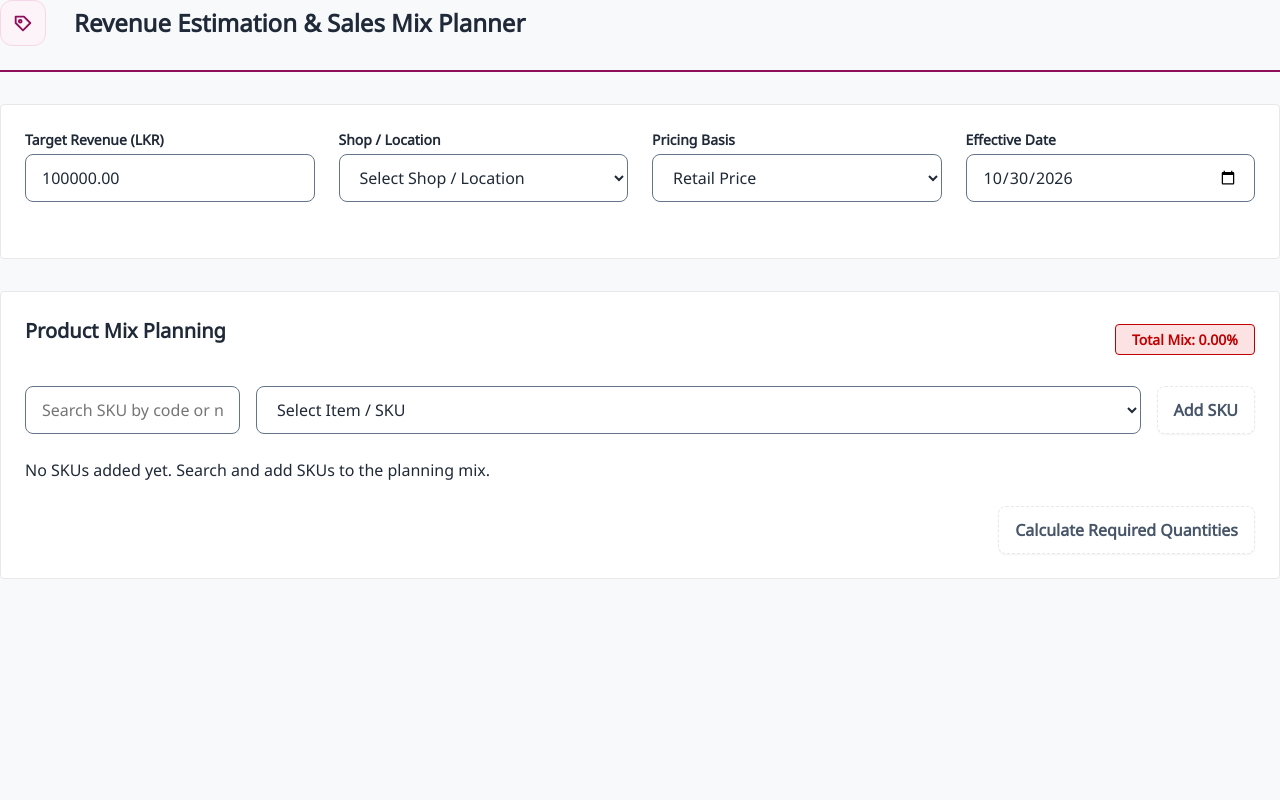
RevenueEstimatorPage › adds SKUs, adjusts percentages and shows validation warning when not 100%
Note: Select location
Select "LOC-01 Polgolla Main Shop" in the dropdown labelled "Shop / Location" at coordinates (483, 178), box x1=338 y1=154 x2=628 y2=202
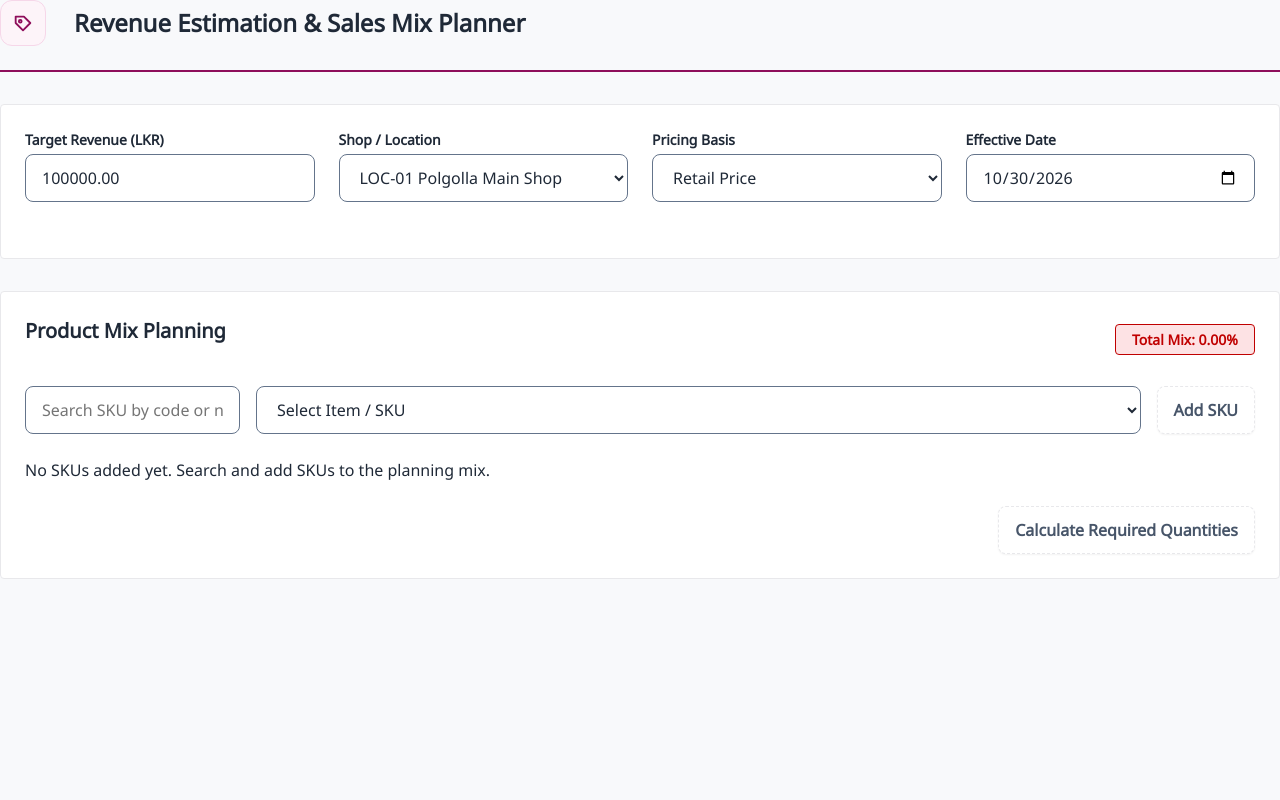
Note: Add first SKU
Select "SKU-RICE Samba Rice 5kg (BAG)" in the dropdown named "Select Item / SKU" at coordinates (698, 410), box x1=256 y1=386 x2=1140 y2=434
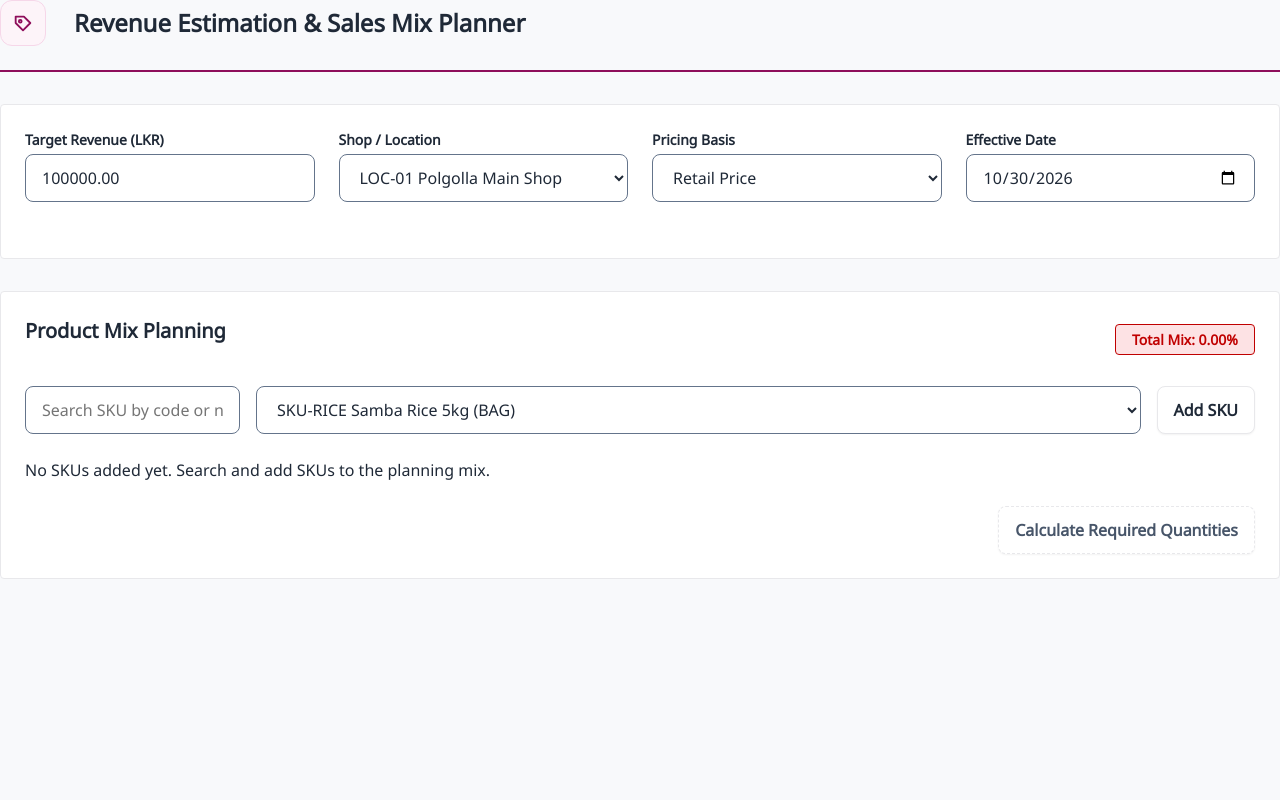
Click the button "Add SKU" at coordinates (1206, 410), box x1=1156 y1=386 x2=1255 y2=434
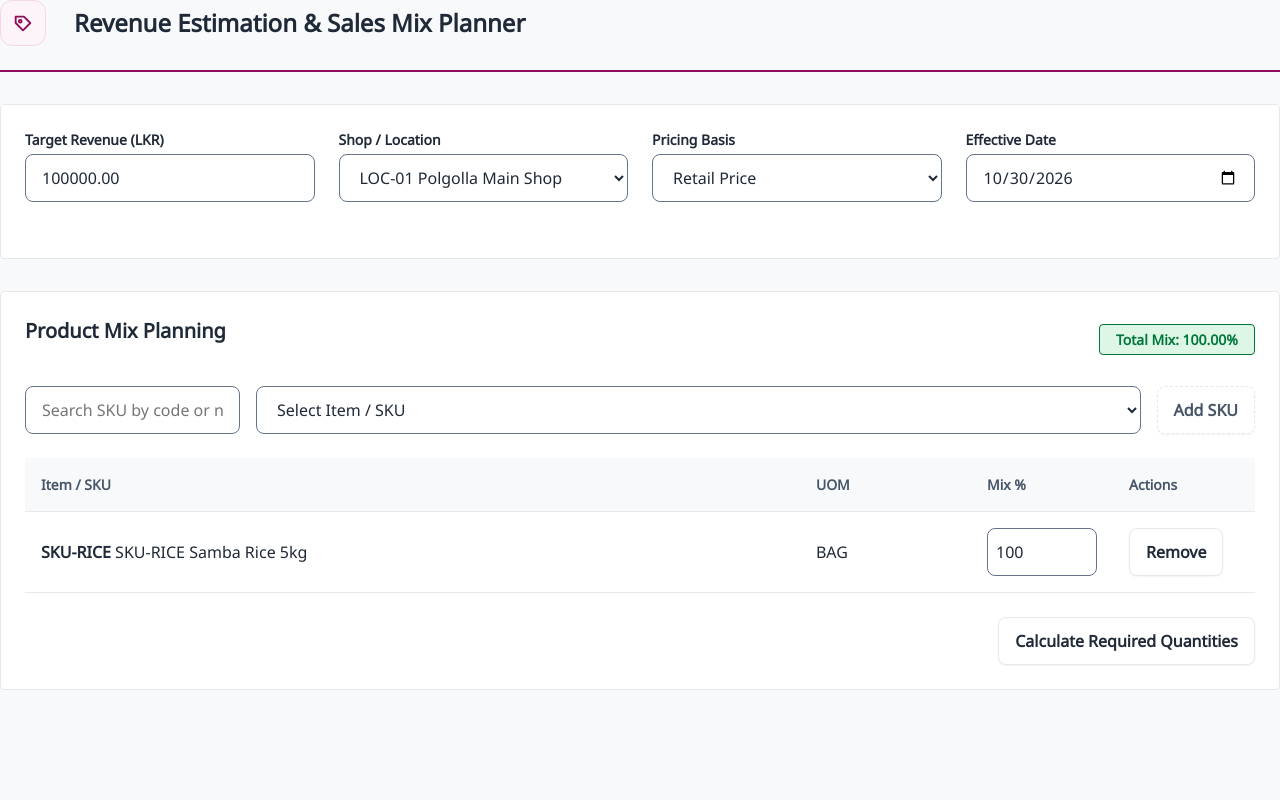
Result: the text "SKU-RICE" is shown at x1=41 y1=541 x2=111 y2=563
Result: the text "Total Mix: 100.00%" is shown at x1=1099 y1=324 x2=1255 y2=354
Note: Change Rice to 60%
Replace the text in the number field showing "100" with "60" at coordinates (1042, 552), box x1=987 y1=528 x2=1097 y2=576
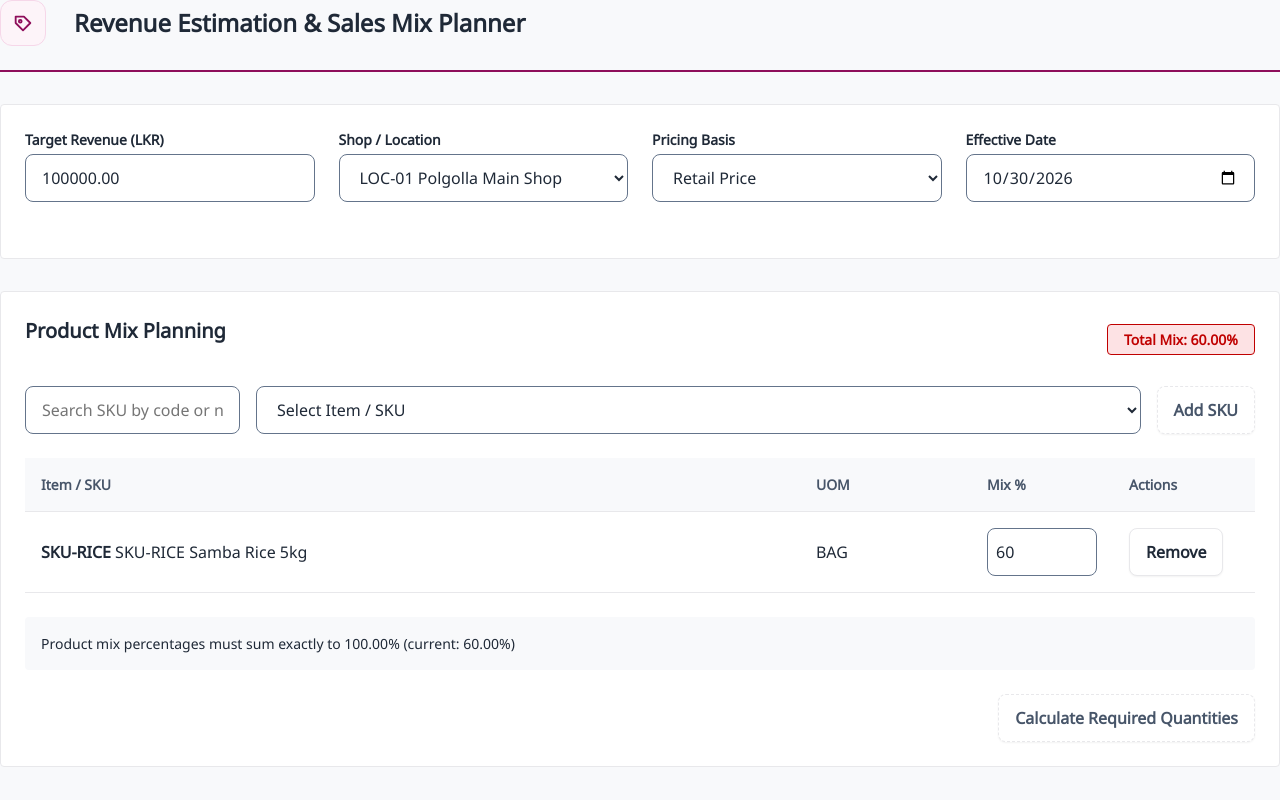
Result: the text "Total Mix: 60.00%" is shown at x1=1107 y1=324 x2=1255 y2=354
Result: the text "Product mix percentages must sum exactly to 100.00%" is shown at x1=41 y1=634 x2=515 y2=653
Result: the button "Calculate Required Quantities" is disabled at x1=998 y1=694 x2=1255 y2=742
Note: Add second SKU (Sugar)
Select "SKU-SUGAR White Sugar 1kg (KG)" in the dropdown named "Select Item / SKU" at coordinates (698, 410), box x1=256 y1=386 x2=1140 y2=434
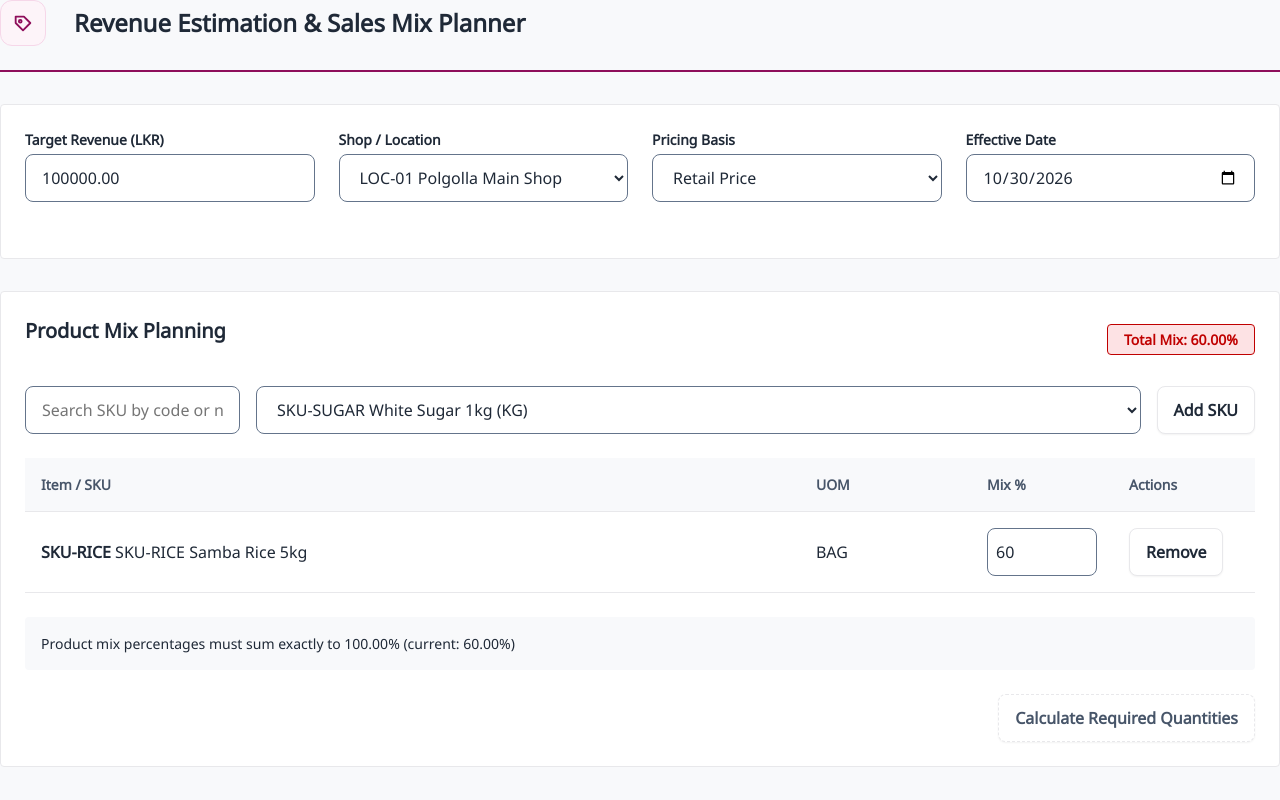
Click the button "Add SKU" at coordinates (1206, 410), box x1=1156 y1=386 x2=1255 y2=434
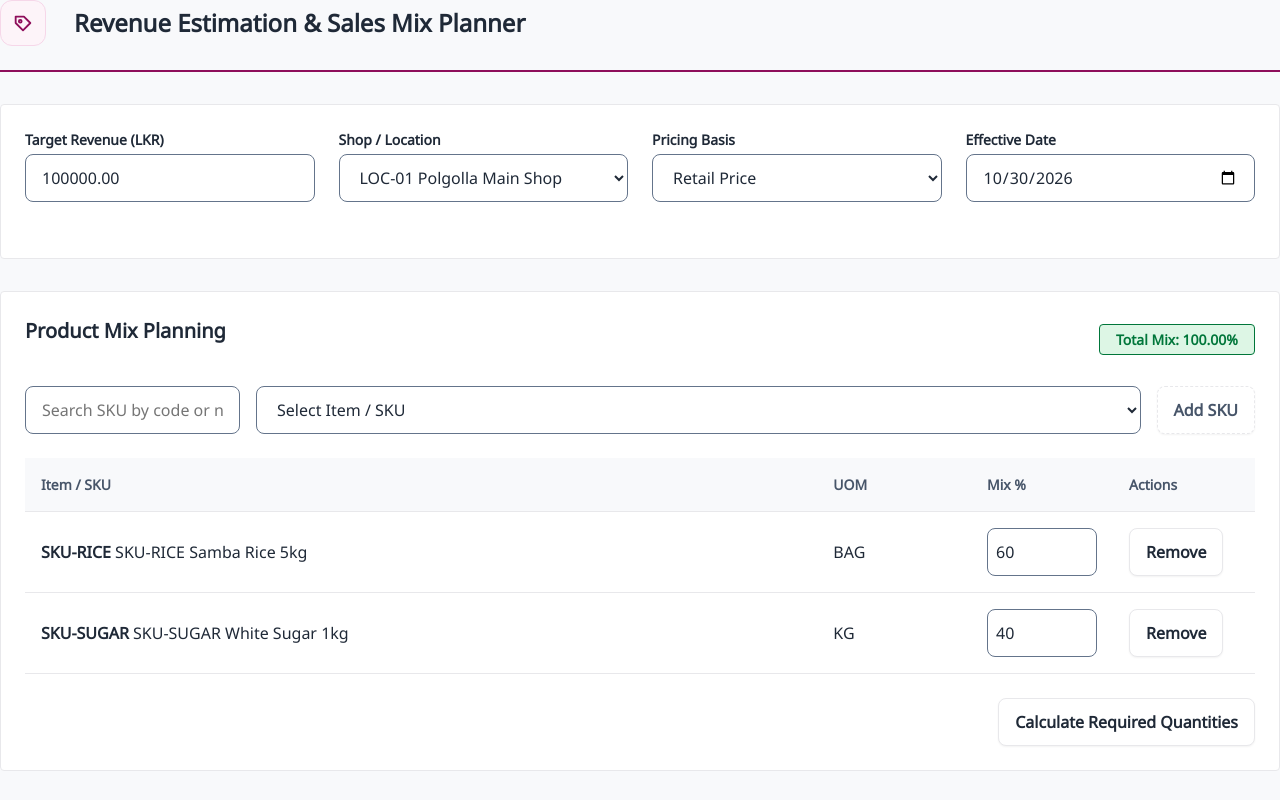
Result: the text "SKU-SUGAR" is shown at x1=41 y1=622 x2=129 y2=644
Result: the text "Total Mix: 100.00%" is shown at x1=1099 y1=324 x2=1255 y2=354
Result: the button "Calculate Required Quantities" is enabled at x1=998 y1=698 x2=1255 y2=746
